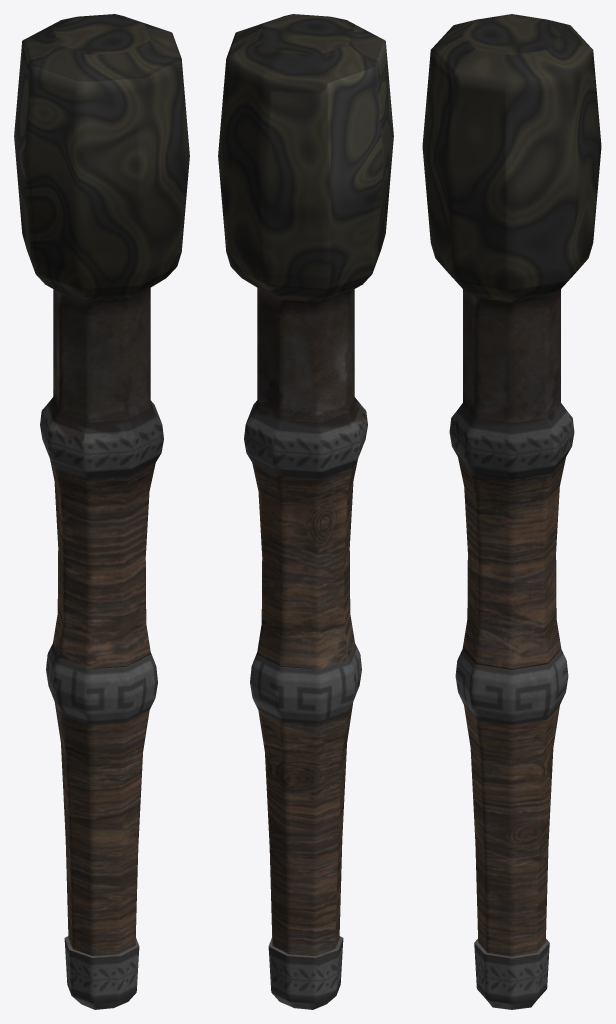
The model's file is GameFactory_HandFireTourch.fbx.
3 views of the same model, side by side, from view 1: azimuth 30°, elevation 25°; view 2: azimuth 150°, elevation 25°; view 3: azimuth 270°, elevation 25° (orthographic).
Parts seen in each view (by area): view 1: GameFactory_FireTourch.004; view 2: GameFactory_FireTourch.004; view 3: GameFactory_FireTourch.004.
Part boxes in pixels (x1=…): GameFactory_FireTourch.004: x1=14, y1=14, x2=189, y2=1009; GameFactory_FireTourch.004: x1=218, y1=14, x2=393, y2=1009; GameFactory_FireTourch.004: x1=422, y1=14, x2=601, y2=1009.
Bounding box in the file's own units: 8.24 × 49.11 × 8.24.
